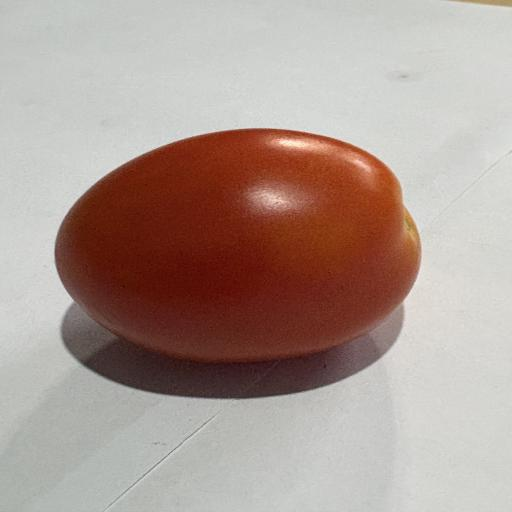ripe: (55, 129, 420, 361)
